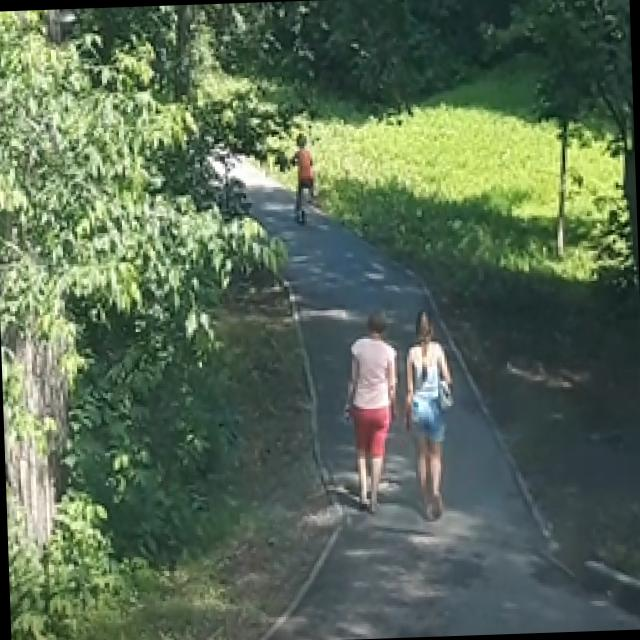person: (342, 309, 404, 512), (400, 308, 457, 520), (286, 132, 319, 220)
